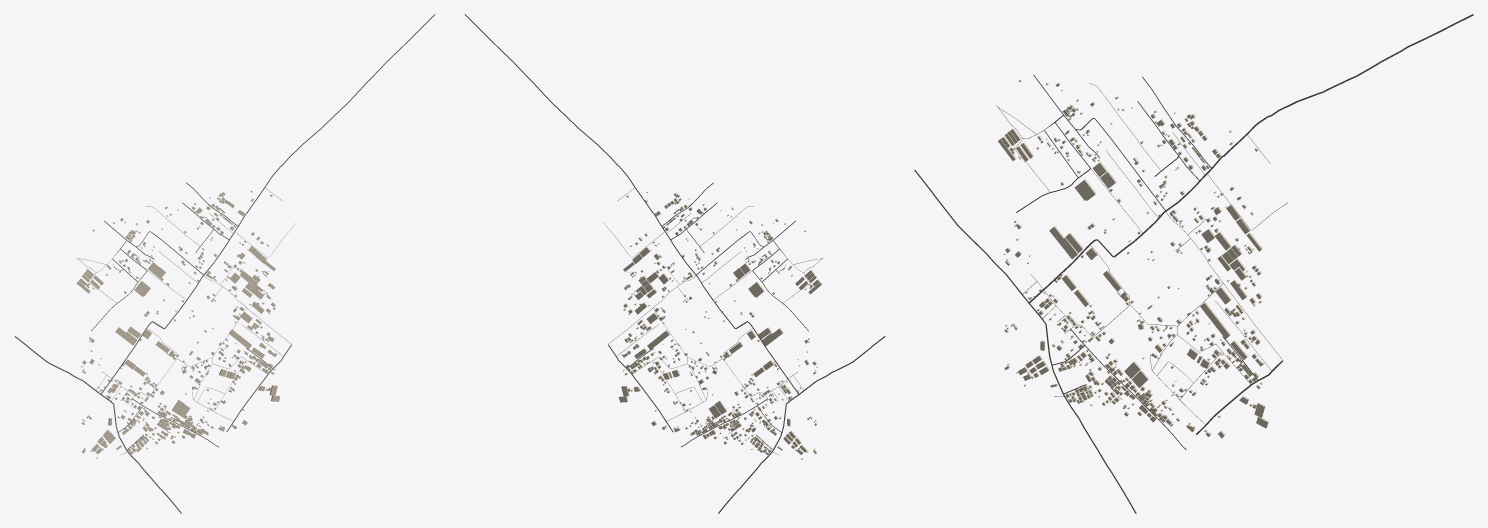
Rendered from historic-palestine-01_20_3432_3140.glb.
3 renders of one model, left to right at view 1: azimuth 30°, elevation 25°; view 2: azimuth 150°, elevation 25°; view 3: azimuth 330°, elevation 25°, orthographic. The views are drawn at different scales.
Visible parts, largest first — view 1: Road .033; view 2: Road .033; view 3: Road .033, Road .027.
Part boxes in pixels (<box>): Road .033: <box>100,14,435,394</box>; Road .033: <box>464,14,799,394</box>; Road .033: <box>1029,14,1473,302</box>; Road .027: <box>914,170,1136,513</box>.
Size of the model in its own units: 2069 by 2057 by 8.7.
